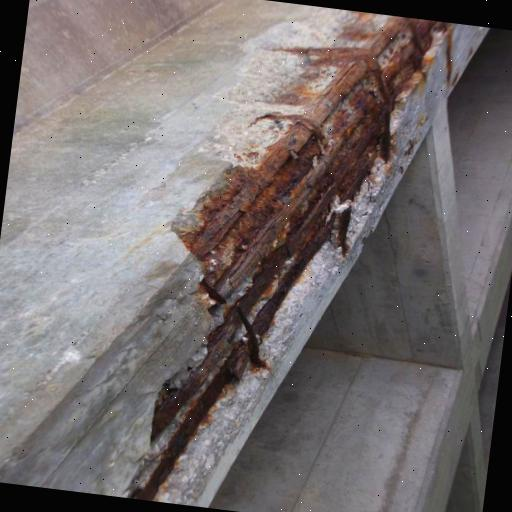spalling: (117, 11, 470, 493)
